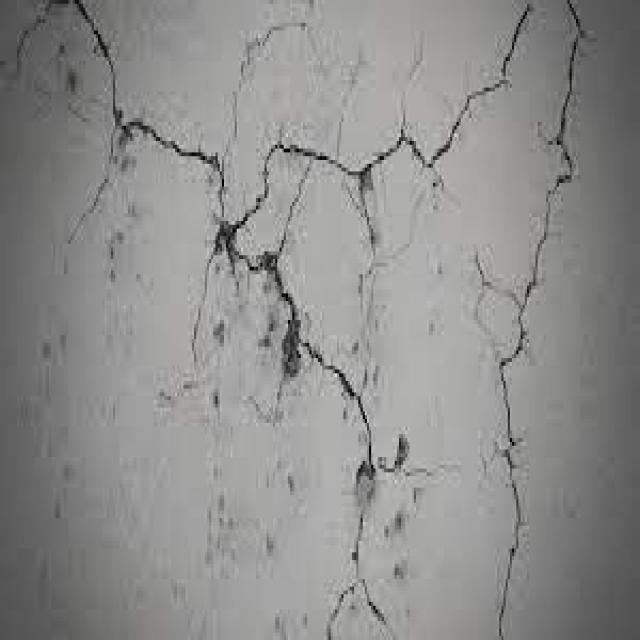Crack: (12, 0, 586, 636)
